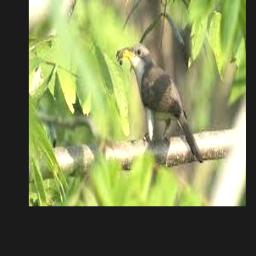Cuckoo: (118, 44, 203, 163)
